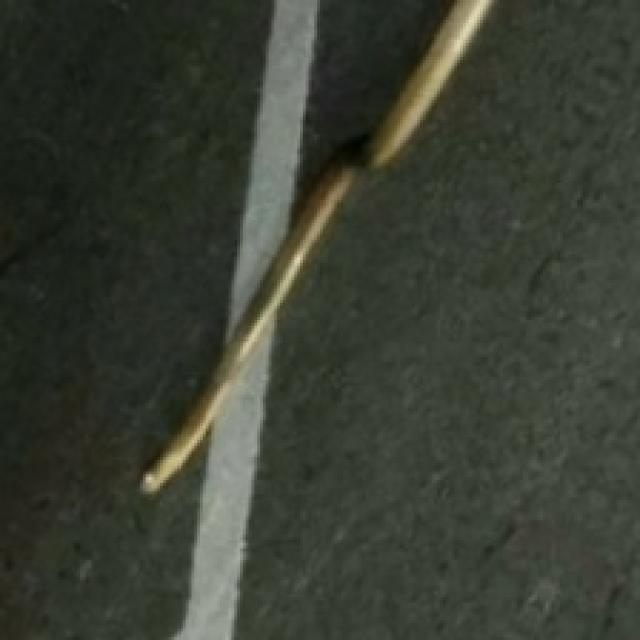king cobra: (289, 420, 546, 500), (557, 423, 637, 509), (429, 443, 451, 460), (289, 460, 297, 477)
